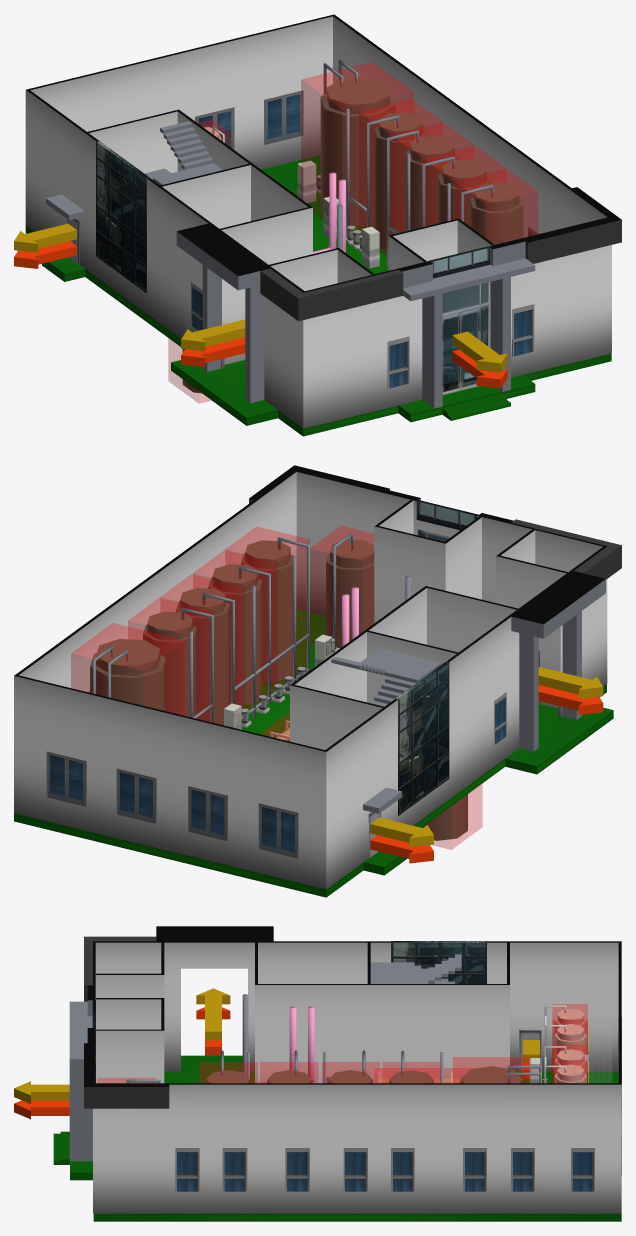
File: soulbrain_T2-13-1F.glb
The picture shows the model from 3 angles, top to bottom: view 1: azimuth 30°, elevation 25°; view 2: azimuth 150°, elevation 25°; view 3: azimuth 270°, elevation 25°; orthographic projection. The views are drawn at different scales.
Visible parts, largest first — view 1: T2-13-1F (1), Rectangle002, equipment-T2-13-1F-005, Cylinder175, equipment-T2-13-1F-006, equipment-T2-13-1F-007, equipment-T2-13-1F-009, Cylinder176, equipment-T2-13-1F-008, Cylinder171, Cylinder173, Cylinder172 (+11 smaller); view 2: T2-13-1F (1), Rectangle002, equipment-T2-13-1F-005, equipment-T2-13-1F-008, equipment-T2-13-1F-009, equipment-T2-13-1F-007, equipment-T2-13-1F-006, equipment-T2-13-1F-010, Cylinder172, Cylinder171, Cylinder173, Cylinder175 (+13 smaller); view 3: T2-13-1F (1), Rectangle002, equipment-T2-13-1F-005, Group231, equipment-T2-13-1F-008, equipment-T2-13-1F-009, equipment-T2-13-1F-006, equipment-T2-13-1F-007, equipment-T2-13-1F-002, arrow_Y_2_T2-13-1F, Shape035, arrow_Y_1_T2-13-1F (+17 smaller).
Part boxes in pixels (<box>): T2-13-1F (1): <box>25,14,621,436</box>; Rectangle002: <box>87,109,494,364</box>; equipment-T2-13-1F-005: <box>301,62,413,229</box>; Cylinder175: <box>320,78,395,226</box>; equipment-T2-13-1F-006: <box>359,99,441,256</box>; equipment-T2-13-1F-007: <box>391,122,473,234</box>; equipment-T2-13-1F-009: <box>455,169,537,244</box>; Cylinder176: <box>374,112,427,250</box>; equipment-T2-13-1F-008: <box>423,146,506,225</box>; Cylinder171: <box>405,136,458,231</box>; Cylinder173: <box>470,183,523,244</box>; Cylinder172: <box>438,159,490,226</box>; T2-13-1F (1): <box>14,465,621,897</box>; Rectangle002: <box>290,500,567,749</box>; equipment-T2-13-1F-005: <box>71,623,184,715</box>; equipment-T2-13-1F-008: <box>193,550,277,709</box>; equipment-T2-13-1F-009: <box>225,526,309,686</box>; equipment-T2-13-1F-007: <box>160,574,244,724</box>; equipment-T2-13-1F-006: <box>128,598,212,721</box>; equipment-T2-13-1F-010: <box>310,526,373,647</box>; Cylinder172: <box>208,564,262,705</box>; Cylinder171: <box>176,588,229,725</box>; Cylinder173: <box>241,540,293,682</box>; Cylinder175: <box>90,639,166,711</box>; T2-13-1F (1): <box>53,926,621,1221</box>; Rectangle002: <box>96,942,509,1083</box>; equipment-T2-13-1F-005: <box>453,1057,530,1082</box>; Group231: <box>126,1026,611,1083</box>; equipment-T2-13-1F-008: <box>260,1062,318,1082</box>; equipment-T2-13-1F-009: <box>199,1062,257,1082</box>; equipment-T2-13-1F-006: <box>382,1062,440,1082</box>; equipment-T2-13-1F-007: <box>322,1062,379,1082</box>; equipment-T2-13-1F-002: <box>552,1019,587,1059</box>; arrow_Y_2_T2-13-1F: <box>196,988,230,1040</box>; Shape035: <box>289,1006,314,1083</box>; arrow_Y_1_T2-13-1F: <box>14,1081,69,1103</box>.
Size of the model in its own units: 17.08 by 9.07 by 25.32.
Materials: 37 (22 with a texture image).
